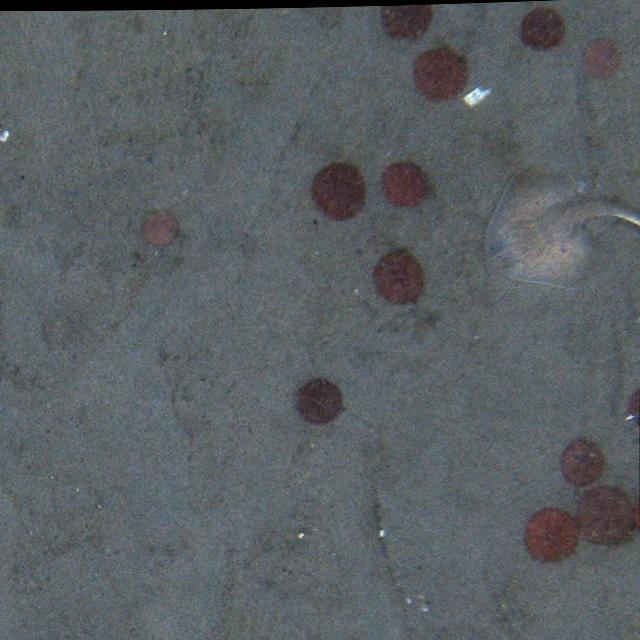skate: (481, 166, 640, 288)
